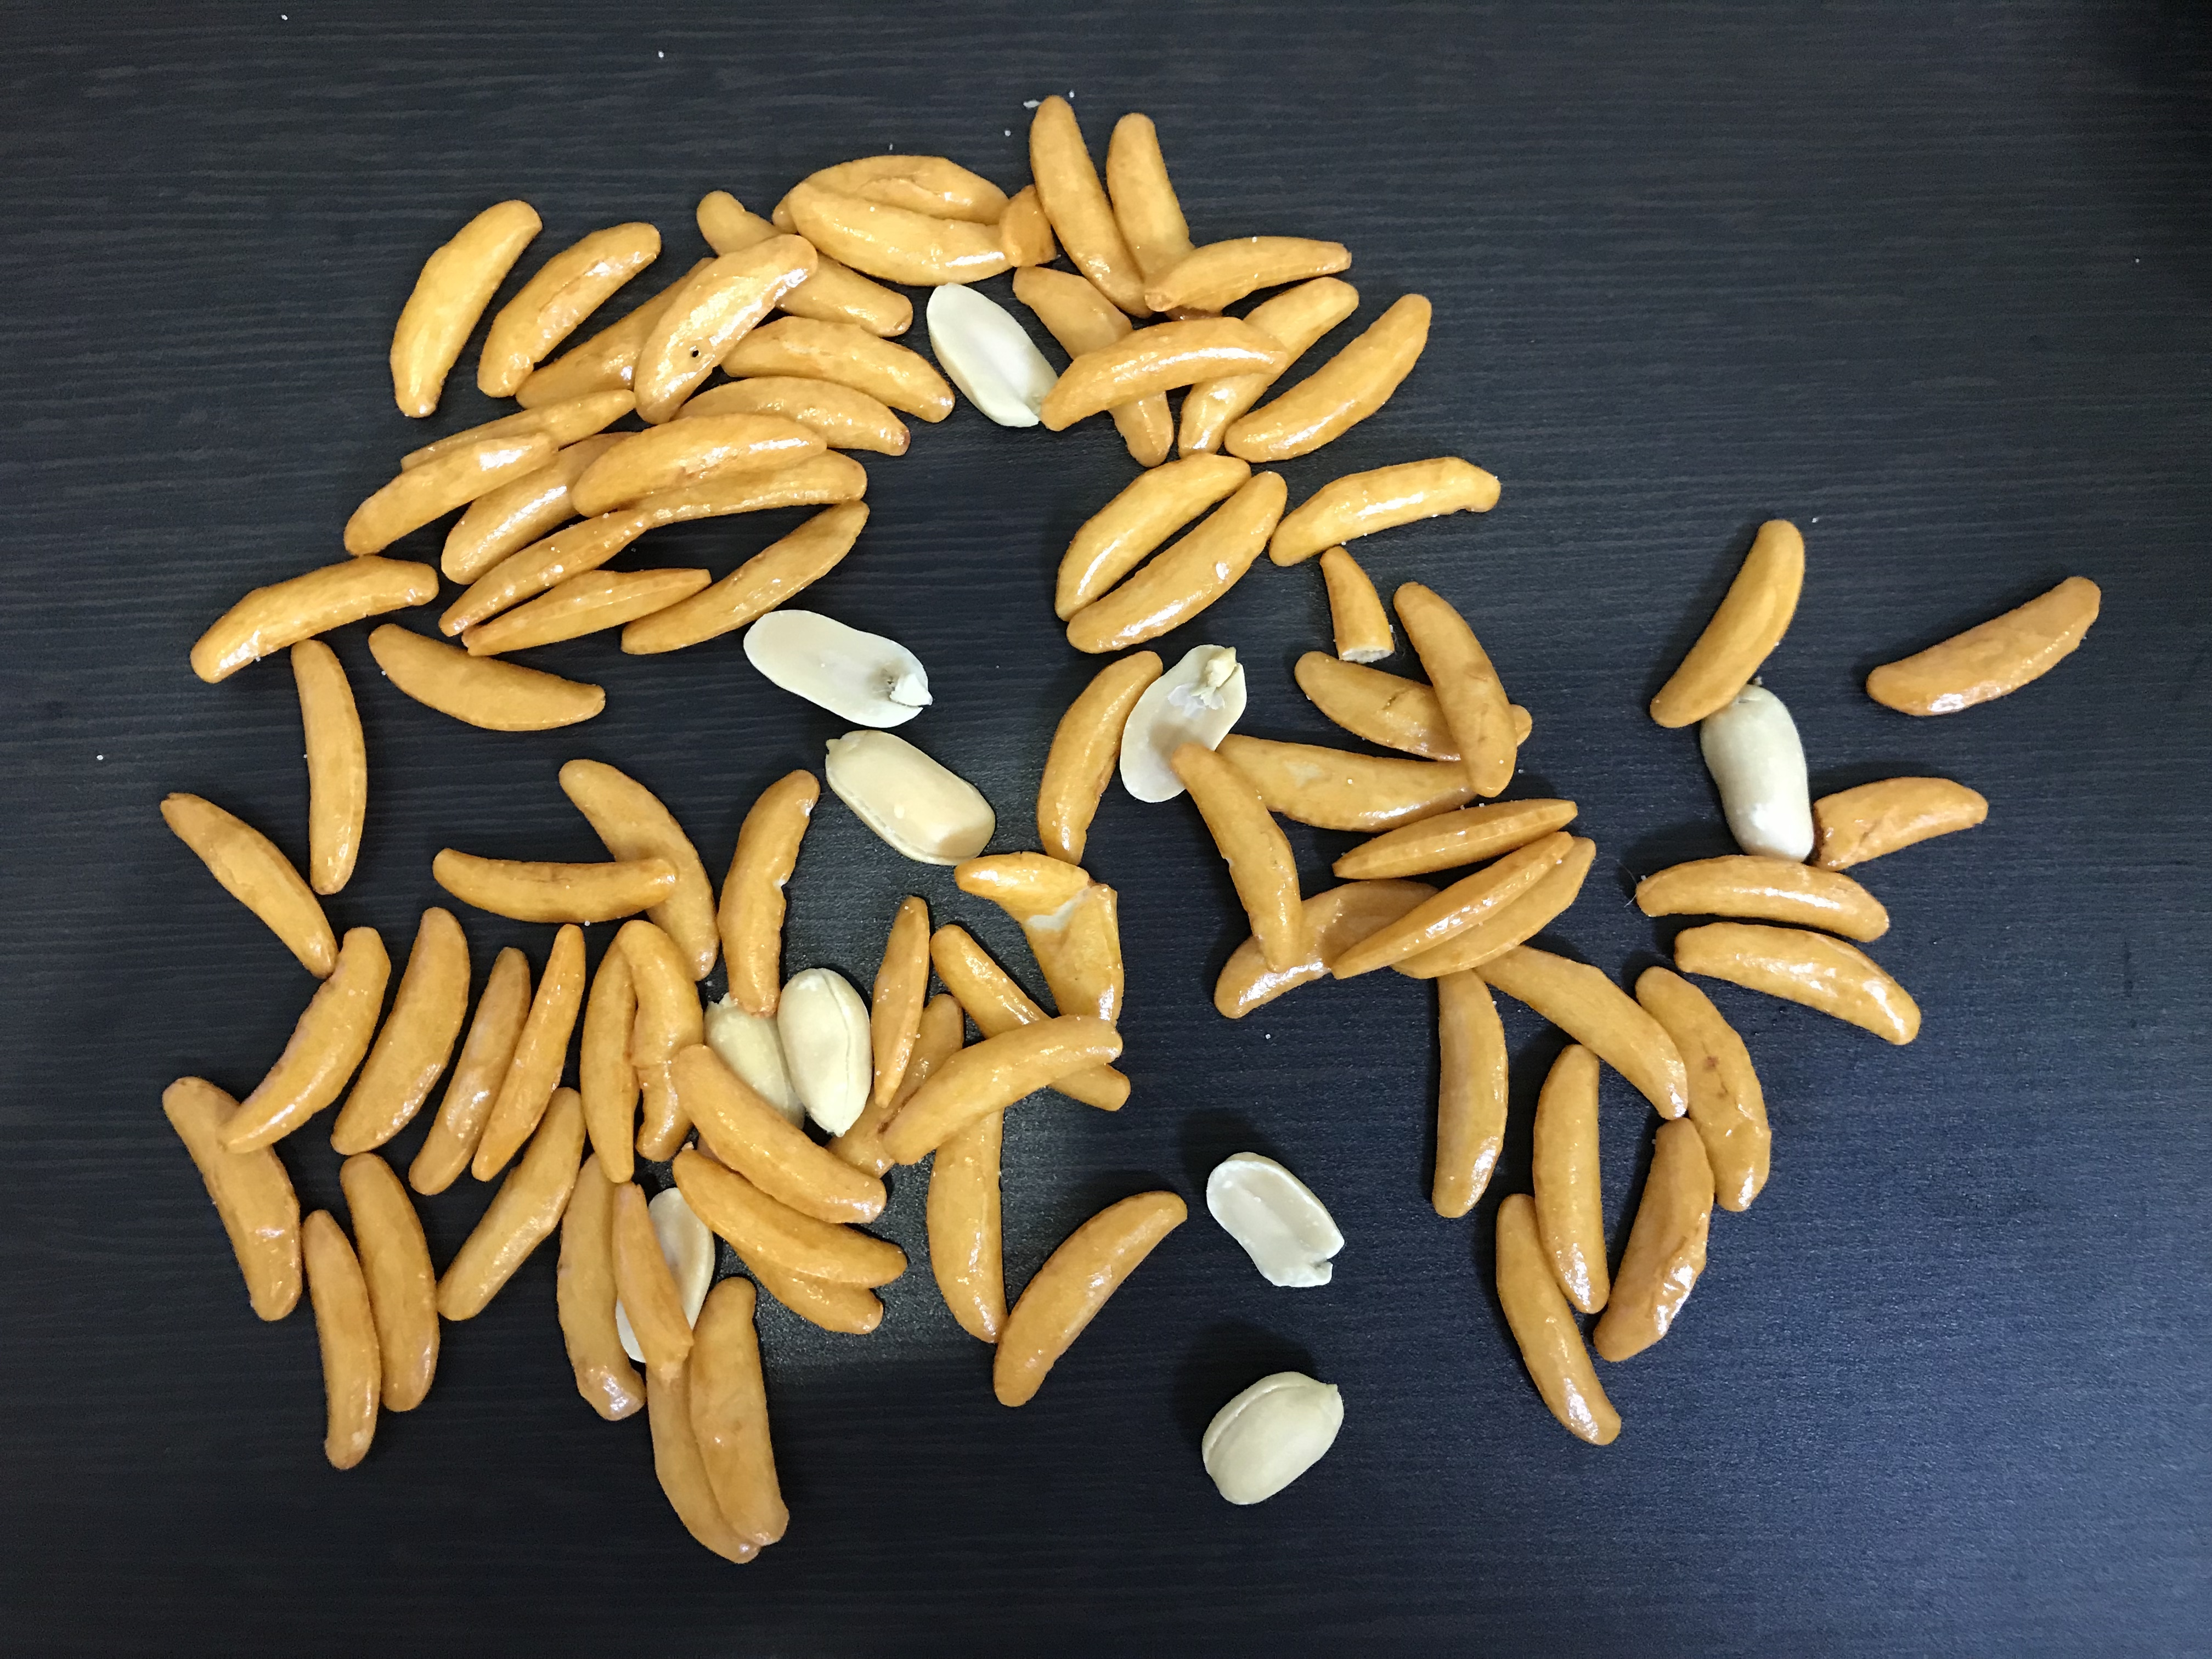peanut: (820, 728, 1003, 875), (1689, 680, 1822, 866), (1193, 1363, 1350, 1513), (737, 608, 934, 725), (1116, 638, 1256, 802), (918, 277, 1062, 429), (1205, 1150, 1348, 1290), (766, 962, 871, 1141), (618, 1183, 712, 1364), (697, 985, 796, 1141)
